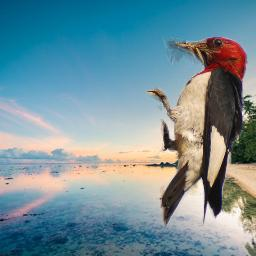Woodpecker: (147, 36, 248, 228)
